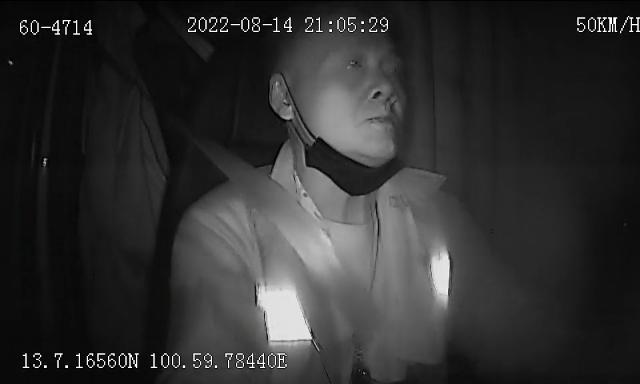Seatbelt: (190, 130, 364, 314)
